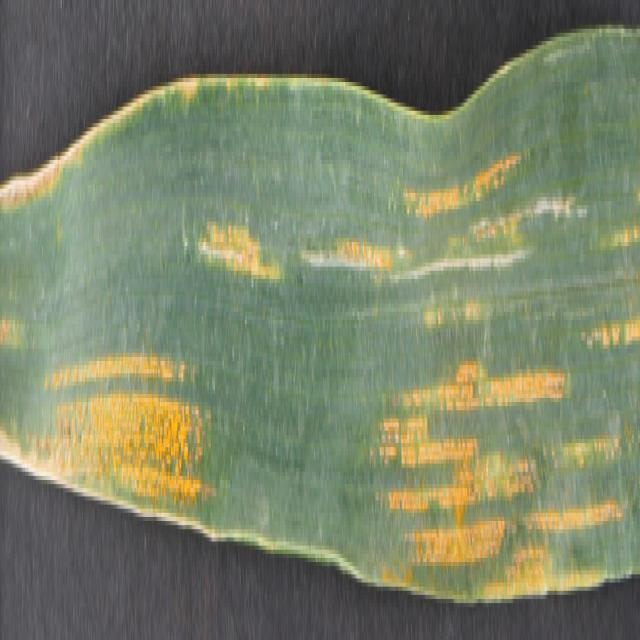leaf rust: (331, 94, 640, 607), (38, 324, 220, 505), (194, 176, 290, 308)
